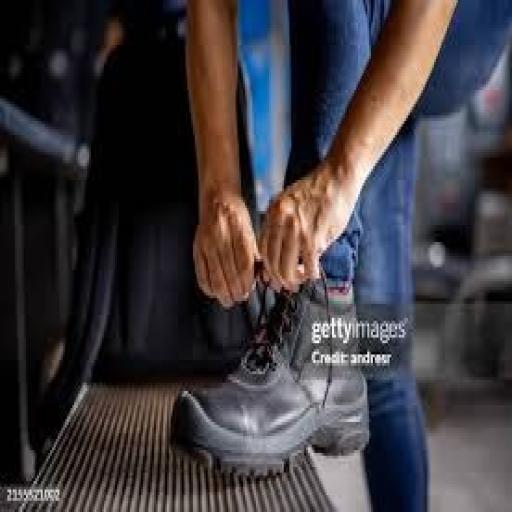safety_boots: (172, 296, 382, 469)
